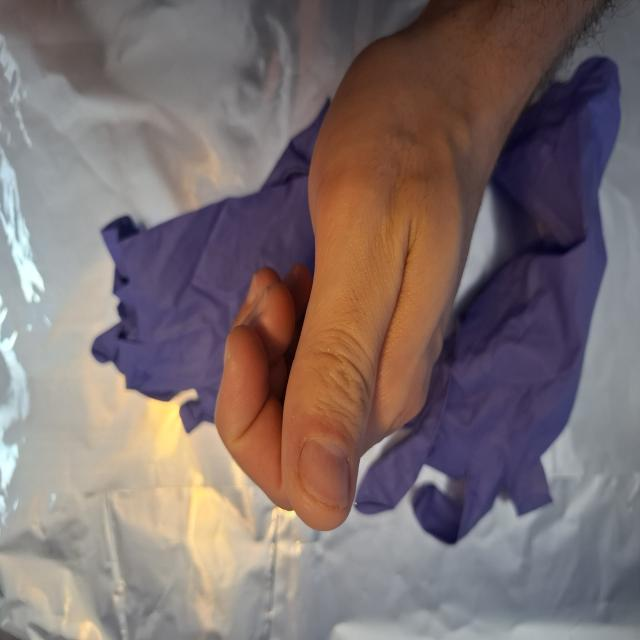glove_off: (213, 1, 567, 533)
